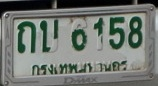txt17: (15, 20, 37, 54)
txt21: (38, 18, 60, 55)
